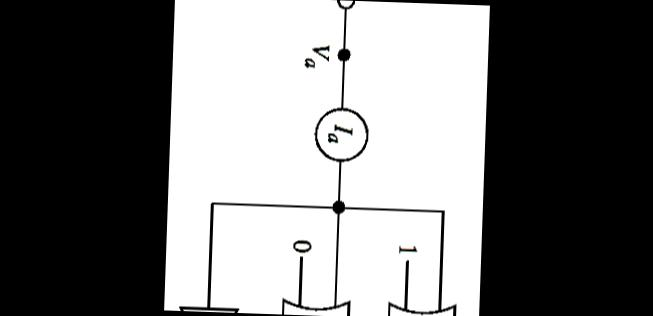nor: (380, 294, 460, 316)
or: (276, 290, 353, 316)
